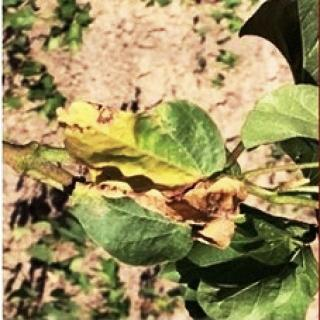wilt: (55, 94, 245, 236)
